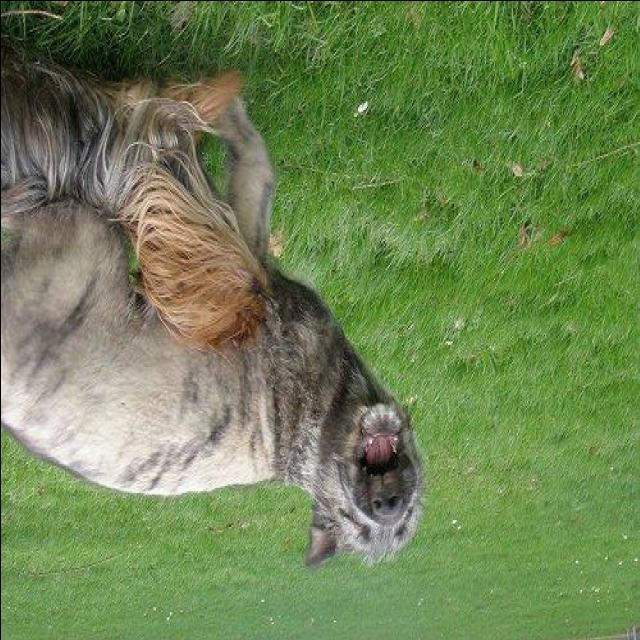irish_wolfhound: (2, 92, 424, 572)
